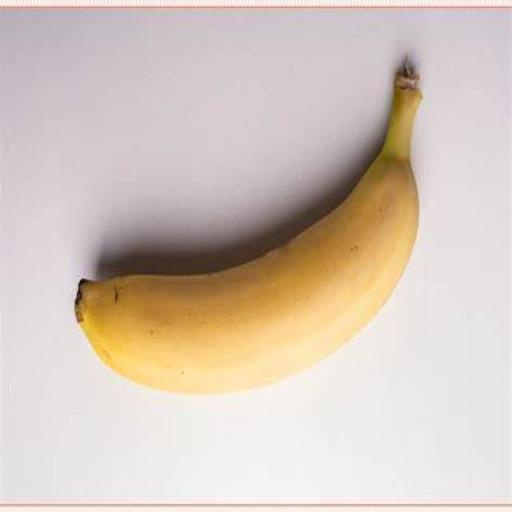fruit: (76, 66, 421, 393)
